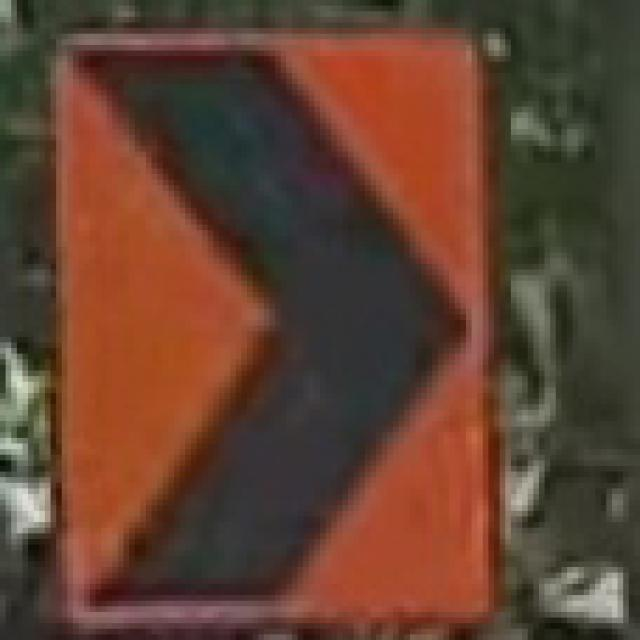curveright_sign: (39, 22, 511, 634)
